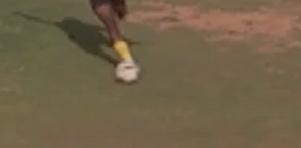ball: (112, 59, 145, 86)
